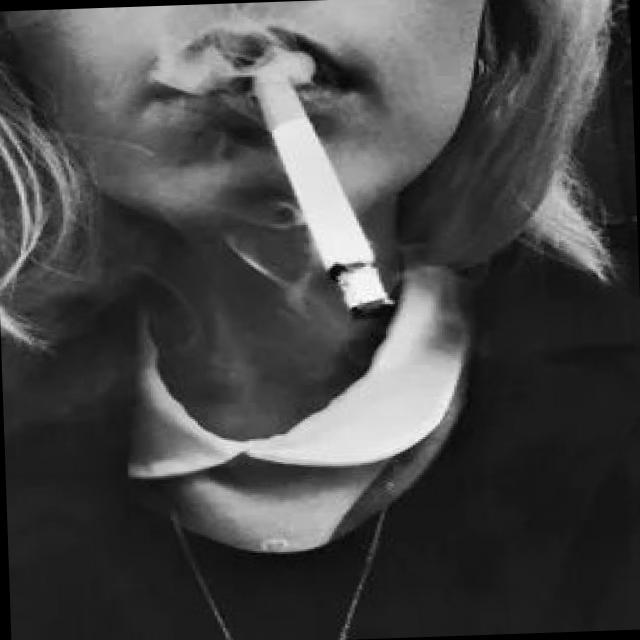cigarette: (238, 51, 411, 337)
